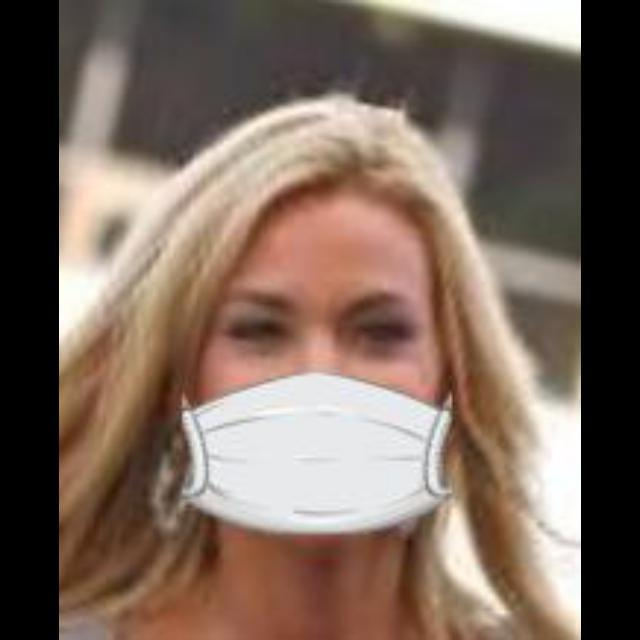suspicion: (58, 120, 506, 592)
